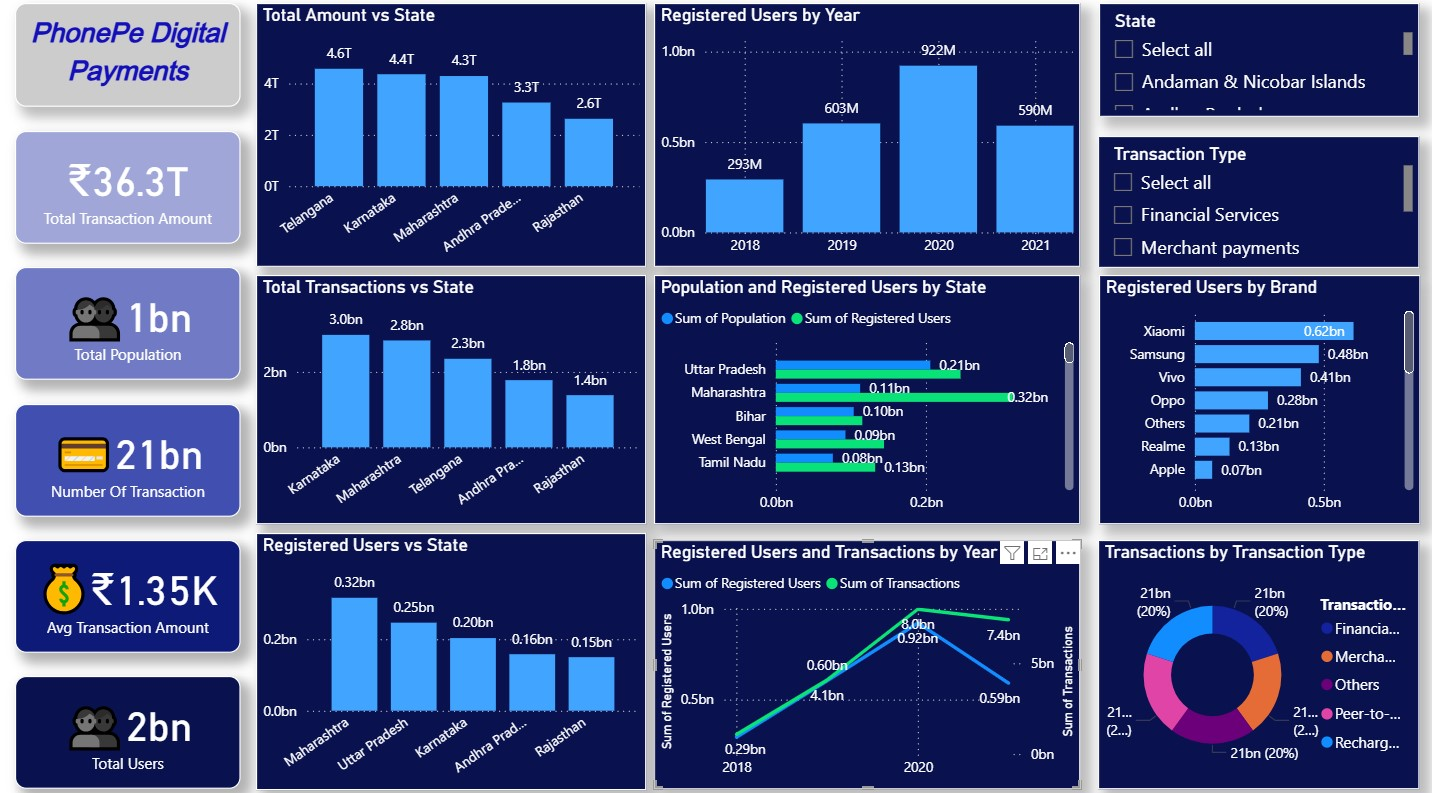

This screenshot's page, from the dashboard's own definition file:
{"tool":"powerbi","page":{"name":"Page 1","canvas":[1280,720],"ordinal":0},"visuals":[{"type":"card","fields":{"Values":["State_TxnSplit.Total Population"]},"box":[18.5,242.4,200.4,100.2],"z":0},{"type":"card","fields":{"Values":["State_TxnSplit.Total Transaction Amount"]},"box":[18.5,121.6,200.4,100.2],"z":1000},{"type":"card","fields":{"Values":["State_TxnSplit.Number Of Transaction"]},"box":[18.5,363.3,200.4,100.2],"z":2000},{"type":"card","fields":{"Values":["State_TxnSplit.Avg Transaction Amount"]},"box":[18.5,484.1,200.4,100.2],"z":3000},{"type":"card","fields":{"Values":["State_TxnSplit.Total Users"]},"box":[18.5,605,200.4,100.2],"z":4000},{"type":"slicer","fields":{"Values":["State_TxnSplit.Transaction Type"]},"box":[978.5,125.5,285,116.7],"z":6000},{"type":"slicer","fields":{"Values":["State_TxnSplit.State"]},"box":[979.8,8,283.7,101.1],"z":7000},{"type":"columnChart","title":"Total Amount vs State","fields":{"Y":["Sum(State_Txn and Users.Amount (INR))"],"Category":["State_TxnSplit.State"]},"box":[232.5,7.8,346.3,234.4],"z":8000},{"type":"columnChart","title":"Registered Users by Year","fields":{"Category":["State_Txn and Users.Year"],"Y":["Sum(State_Txn and Users.Registered Users)"]},"box":[585.5,7.8,378.4,234.4],"z":9000},{"type":"columnChart","title":"Total Transactions vs State","fields":{"Category":["State_Txn and Users.State"],"Y":["Sum(State_Txn and Users.Transactions)"]},"box":[232.5,249,346.3,220.8],"z":10000},{"type":"columnChart","title":"Registered Users vs State","fields":{"Category":["District_Txn and Users.State"],"Y":["Sum(tabStateDevice.Registered Users)"]},"box":[232.5,477.6,346.3,227.6],"z":11000},{"type":"clusteredBarChart","title":"Population and Registered Users by State","fields":{"Category":["State_TxnSplit.State"],"Y":["Sum(District Demographics.Population)","Sum(State_Txn and Users.Registered Users)"]},"box":[585.5,249,378.4,220.8],"z":12000},{"type":"lineChart","title":"Registered Users and Transactions by Year","fields":{"Category":["State_Txn and Users.Year"],"Y":["Sum(State_Txn and Users.Registered Users)"],"Y2":["Sum(State_Txn and Users.Transactions)"]},"box":[585.5,484.4,378.4,220.8],"z":12001},{"type":"clusteredBarChart","title":"Registered Users by Brand","fields":{"Category":["tabStateDevice.Brand"],"Y":["Sum(tabStateDevice.Registered Users)"]},"box":[979.5,249,285,220.8],"z":12002},{"type":"donutChart","title":"Transactions by Transaction Type","fields":{"Category":["State_TxnSplit.Transaction Type"],"Y":["Sum(State_Txn and Users.Transactions)"]},"box":[979,484,285,221],"z":12003},{"type":"textbox","box":[18.5,7.8,200.4,92.4],"z":12004}]}

Visuals, with their boxes in screenshot pixels (x1, y1, x2, y2), scaled from the page's 1280x720 canvas onto the 1432x793 screenshot:
card - State_TxnSplit.Total Population: [left=21, top=267, right=245, bottom=377]
card - State_TxnSplit.Total Transaction Amount: [left=21, top=134, right=245, bottom=244]
card - State_TxnSplit.Number Of Transaction: [left=21, top=400, right=245, bottom=510]
card - State_TxnSplit.Avg Transaction Amount: [left=21, top=533, right=245, bottom=644]
card - State_TxnSplit.Total Users: [left=21, top=666, right=245, bottom=777]
slicer - State_TxnSplit.Transaction Type: [left=1095, top=138, right=1414, bottom=267]
slicer - State_TxnSplit.State: [left=1096, top=9, right=1414, bottom=120]
"Total Amount vs State" columnChart: [left=260, top=9, right=648, bottom=267]
"Registered Users by Year" columnChart: [left=655, top=9, right=1078, bottom=267]
"Total Transactions vs State" columnChart: [left=260, top=274, right=648, bottom=517]
"Registered Users vs State" columnChart: [left=260, top=526, right=648, bottom=777]
"Population and Registered Users by State" clusteredBarChart: [left=655, top=274, right=1078, bottom=517]
"Registered Users and Transactions by Year" lineChart: [left=655, top=534, right=1078, bottom=777]
"Registered Users by Brand" clusteredBarChart: [left=1096, top=274, right=1415, bottom=517]
"Transactions by Transaction Type" donutChart: [left=1095, top=533, right=1414, bottom=776]
textbox: [left=21, top=9, right=245, bottom=110]
